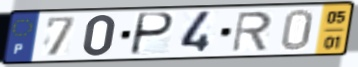0: (80, 13, 118, 58), (278, 7, 315, 53)
4: (177, 9, 216, 57)
7: (44, 15, 78, 58)
P: (128, 11, 176, 58)
R: (230, 10, 274, 54)
